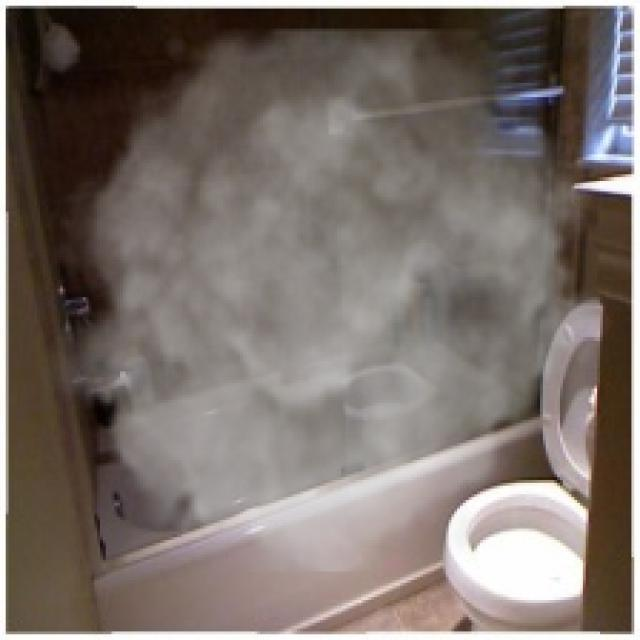Smoke: (46, 29, 614, 572)
